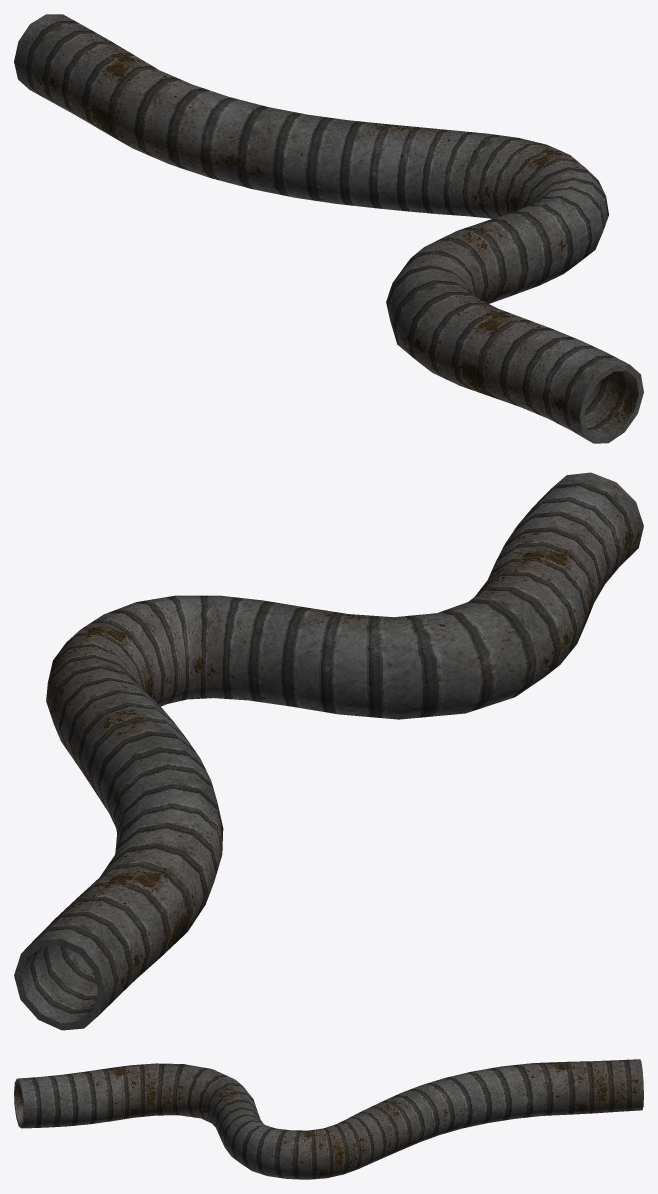
The model's file is pipe_e_1.glb.
3 views of the same model, one above another, from view 1: azimuth 30°, elevation 25°; view 2: azimuth 150°, elevation 25°; view 3: azimuth 270°, elevation 25° (orthographic). The views are drawn at different scales.
Visible parts, largest first — view 1: pipe_e_1; view 2: pipe_e_1; view 3: pipe_e_1.
Part boxes in pixels (box(x1,y1,x2,y2)): pipe_e_1: box(14, 14, 643, 443); pipe_e_1: box(14, 472, 643, 1030); pipe_e_1: box(14, 1059, 643, 1179).
Bounding box in the file's own units: 1.05 × 0.25 × 3.05.
Materials: 1 (1 with a texture image).
